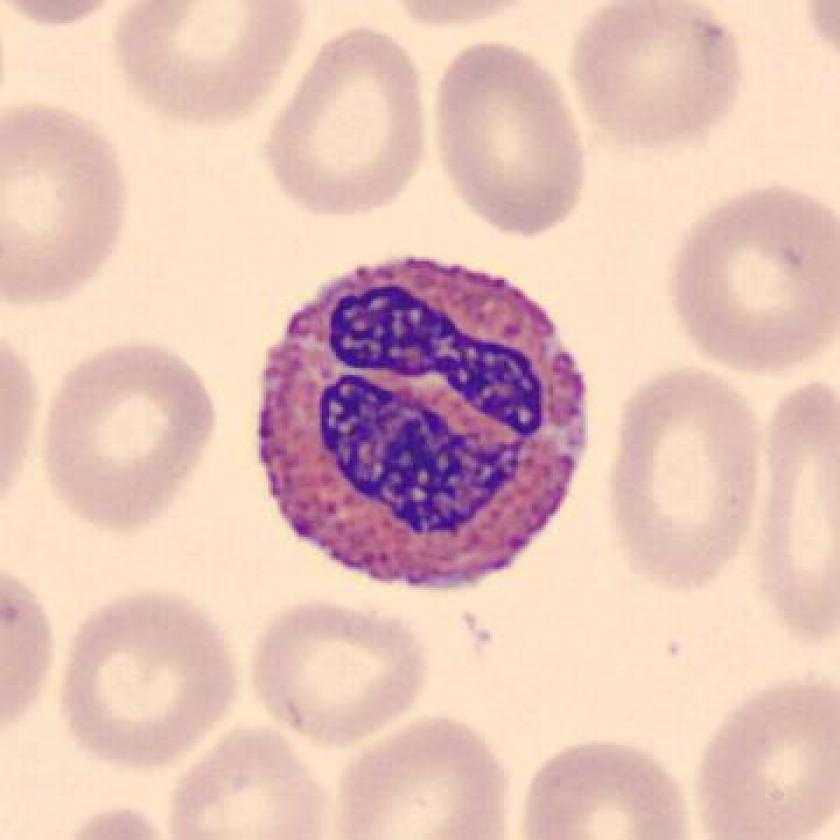eosinophil: (246, 246, 598, 603)
